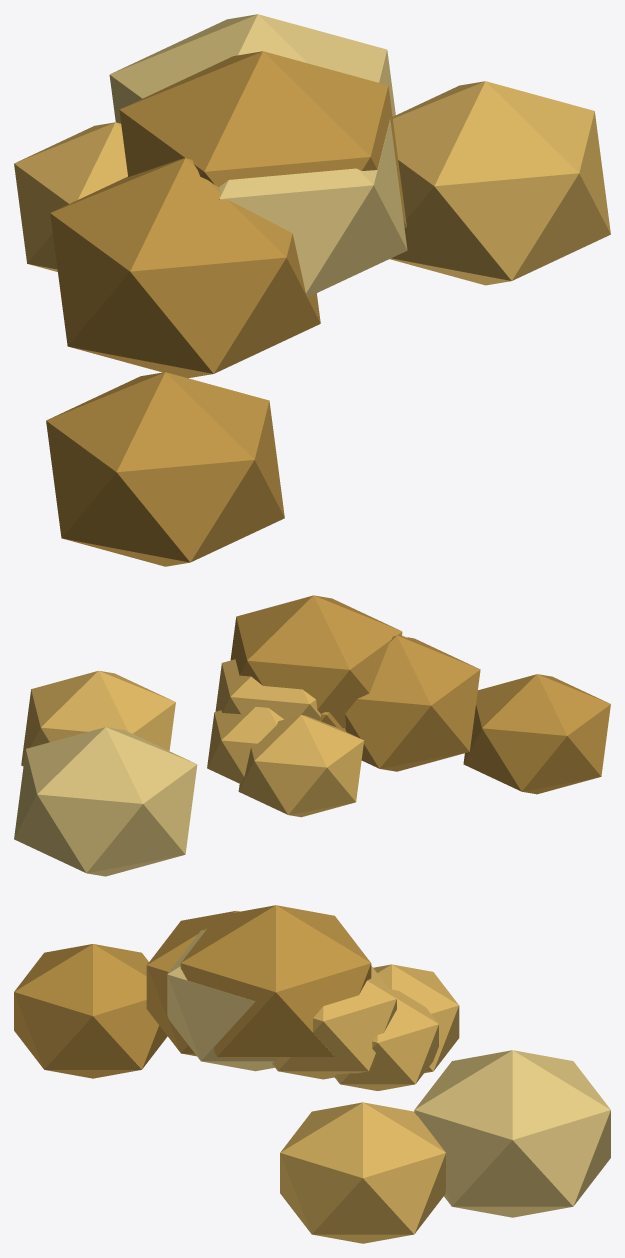
Rendered from ore_pile.glb.
3 views of the same model, one above another, from view 1: azimuth 30°, elevation 25°; view 2: azimuth 150°, elevation 25°; view 3: azimuth 270°, elevation 25° (orthographic). The views are drawn at different scales.
Visible parts, largest first — view 1: gold nugget.004, gold nugget.011, gold nugget.003, gold nugget.007, gold nugget, gold nugget.005, gold nugget.001; view 2: gold nugget.005, gold nugget.011, gold nugget.007, gold nugget.004, gold nugget.001, gold nugget.003, gold nugget.010, gold nugget.002; view 3: gold nugget.005, gold nugget.007, gold nugget.003, gold nugget.011, gold nugget.002, gold nugget, gold nugget.010, gold nugget.001, gold nugget.004.
Part boxes in pixels (bbox=[...]): gold nugget.004: bbox=[50, 158, 320, 378]; gold nugget.011: bbox=[46, 372, 284, 566]; gold nugget.003: bbox=[389, 81, 610, 285]; gold nugget.007: bbox=[119, 51, 406, 227]; gold nugget: bbox=[218, 119, 407, 296]; gold nugget.005: bbox=[109, 14, 395, 123]; gold nugget.001: bbox=[14, 122, 127, 271]; gold nugget.005: bbox=[14, 727, 197, 876]; gold nugget.011: bbox=[463, 674, 610, 794]; gold nugget.007: bbox=[230, 595, 402, 727]; gold nugget.004: bbox=[345, 635, 480, 771]; gold nugget.001: bbox=[238, 715, 364, 817]; gold nugget.003: bbox=[21, 670, 175, 766]; gold nugget.010: bbox=[207, 706, 283, 783]; gold nugget.002: bbox=[215, 659, 320, 720]; gold nugget.005: bbox=[414, 1050, 610, 1217]; gold nugget.007: bbox=[180, 905, 371, 1057]; gold nugget.003: bbox=[280, 1102, 445, 1243]; gold nugget.011: bbox=[14, 944, 167, 1078]; gold nugget.002: bbox=[272, 966, 396, 1079]; gold nugget: bbox=[167, 929, 277, 1071]; gold nugget.010: bbox=[334, 989, 438, 1090]; gold nugget.001: bbox=[373, 964, 459, 1073]; gold nugget.004: bbox=[146, 910, 239, 1056].
Bounding box in the file's own units: 0.4967 × 0.2415 × 0.5093.
